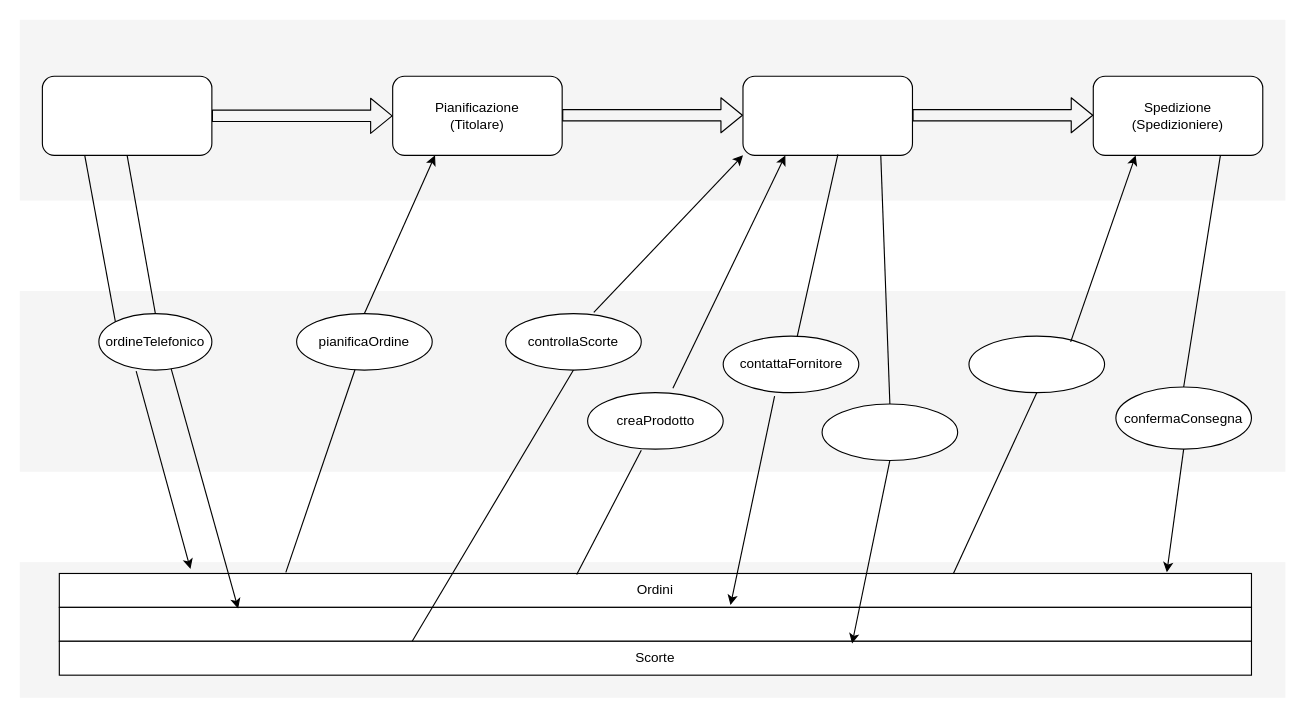
This 1304x716 diagram has some shape labels left out. Each missing label, with the centre of its shape:
"Anagrafica" goes at point 654,623.
"concludiProduzione" goes at point 889,431.
"Esecuzione (Chimico / Operaio)" goes at point 827,115.
"Ordine Cliente (Cliente)" goes at point 126,115.
"prendiInCarico" goes at point 1036,364.
